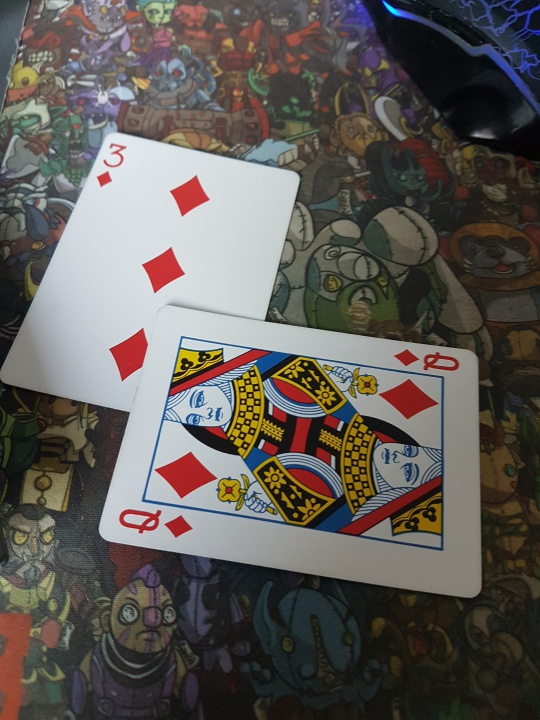3: (1, 133, 300, 415)
queen: (99, 304, 485, 602)
